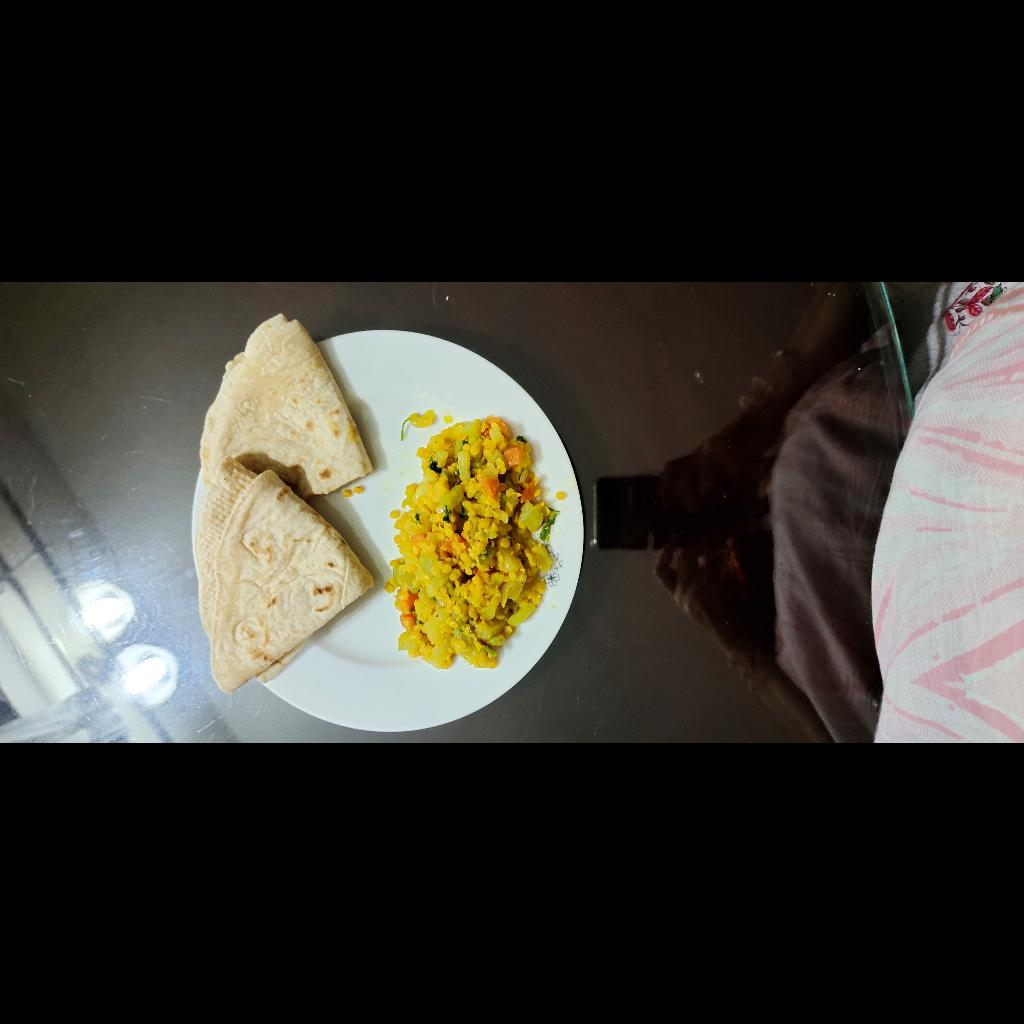ruti: (47, 473, 431, 662)
vegetable: (71, 664, 327, 837)
